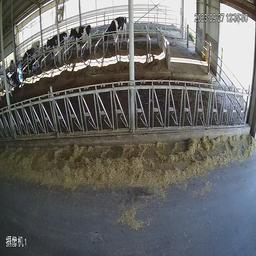cow: (100, 11, 128, 52), (68, 19, 95, 55), (46, 29, 71, 66), (22, 34, 42, 73)
